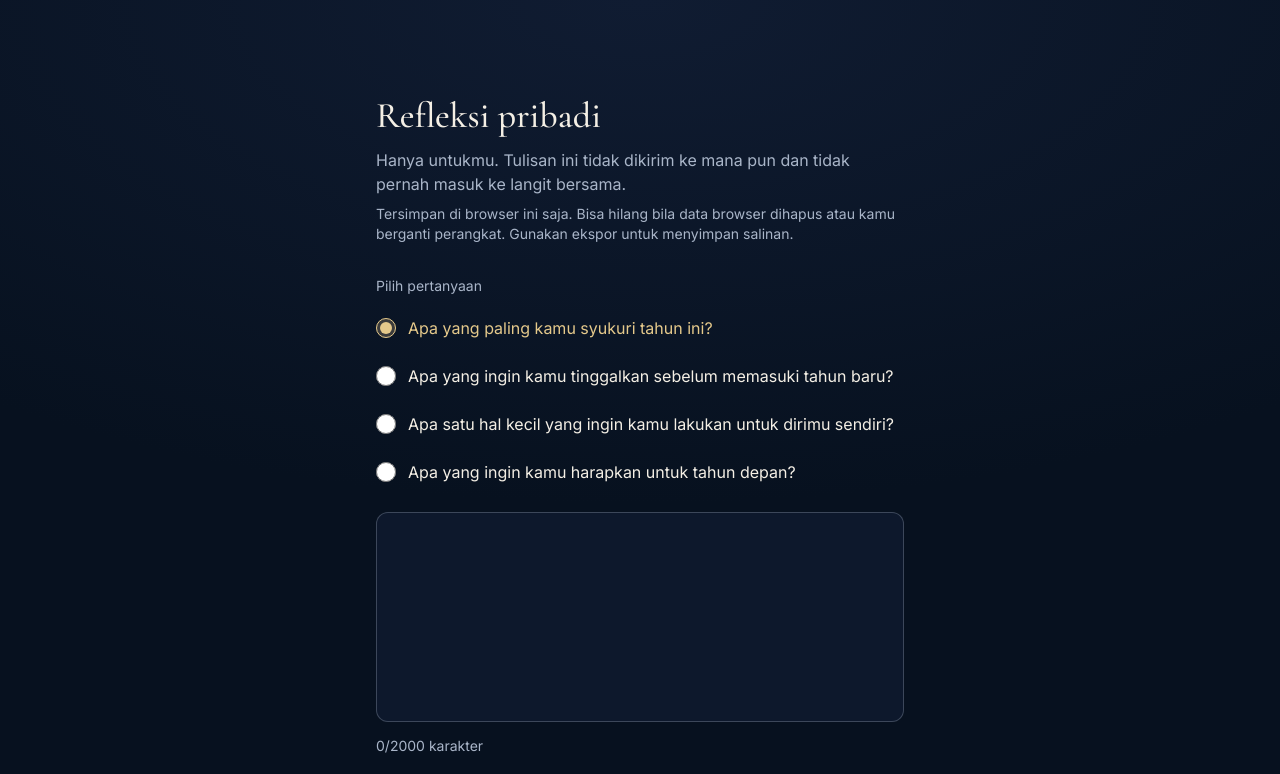
it: ReflectionPad › menyimpan hanya di localStorage refleksi, tidak menyentuh data publik/pending
Expected: the text "Tersimpan di browser ini saja" is shown, [376, 205, 895, 242]
Step 1. Type "Aku bersyukur masih bisa berjalan pelan-pelan." into the text box named "Tulisan refleksimu" → [640, 617], box [376, 512, 904, 722]
(page scrolled)
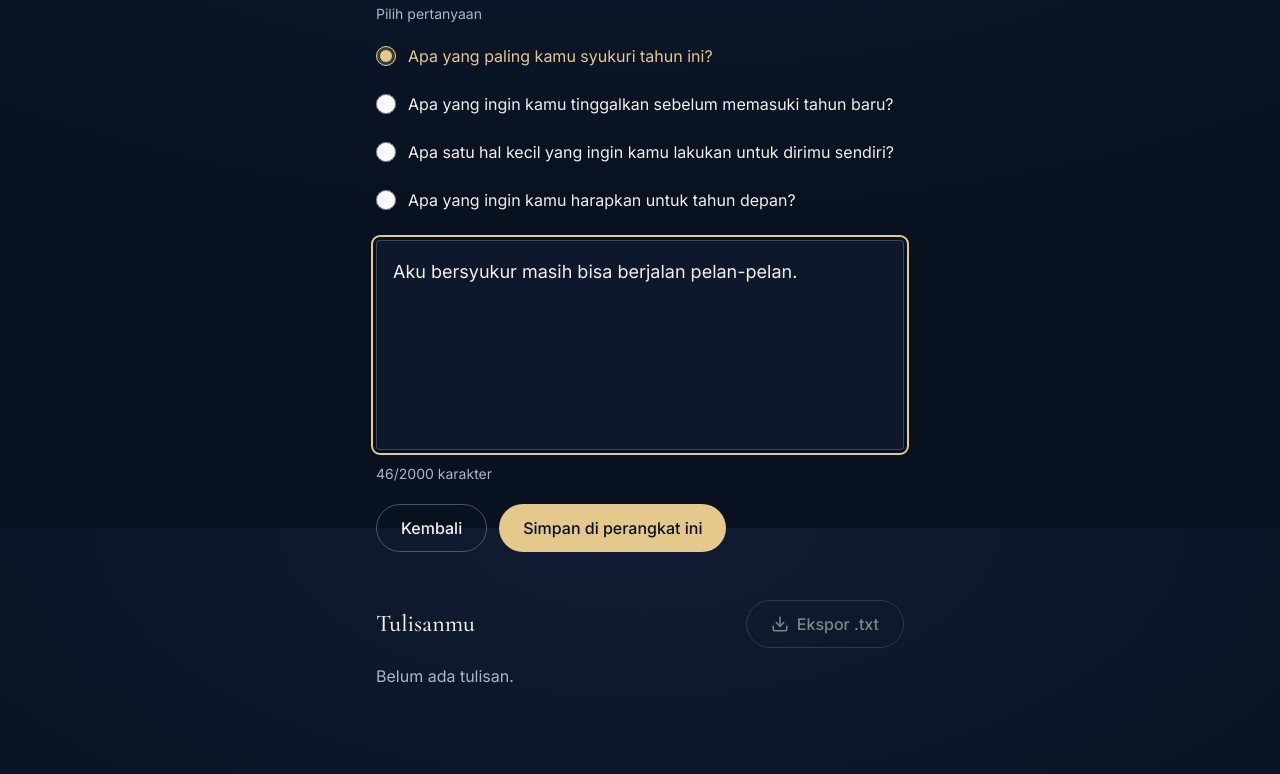
Step 2. Click the button "Simpan di perangkat ini" → [613, 528], box [499, 504, 726, 552]
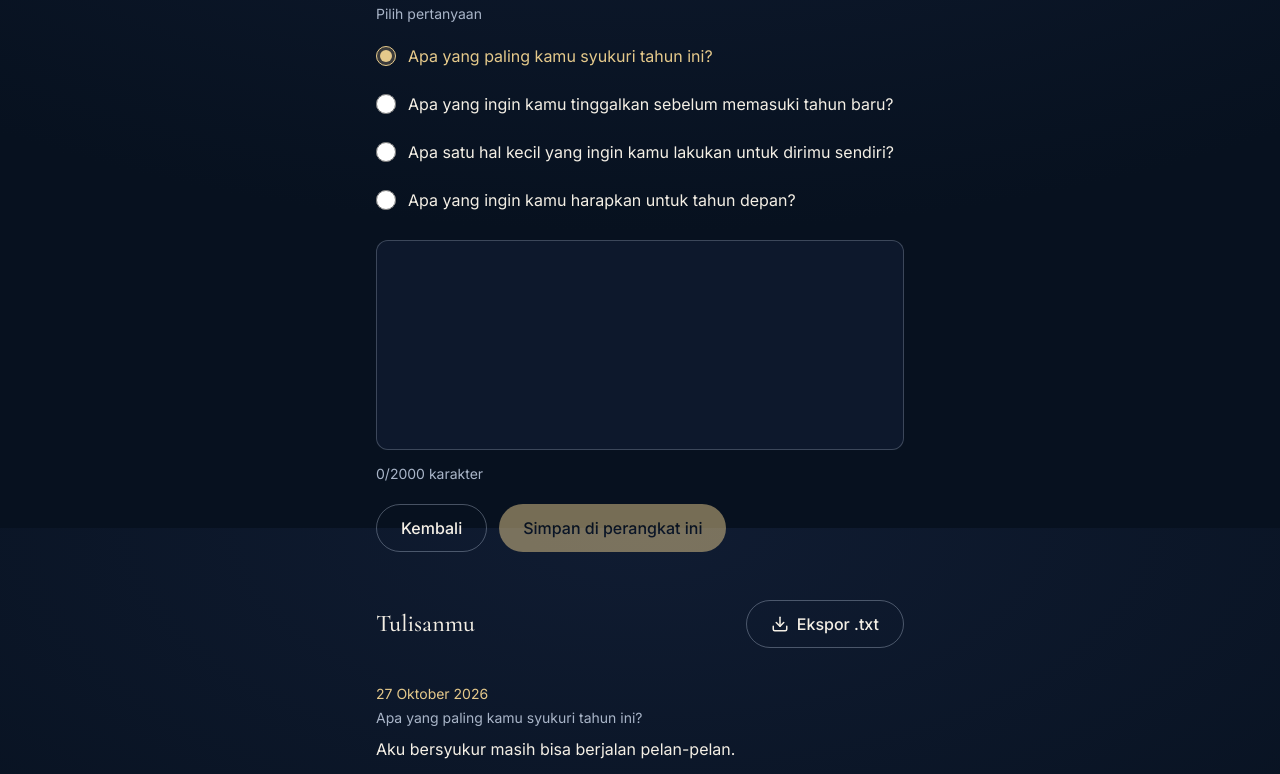
Expected: the text "Aku bersyukur masih bisa berjalan pelan-pelan." is shown, [376, 738, 735, 758]
Expected: the button "Ekspor .txt" is enabled, [746, 600, 904, 648]
